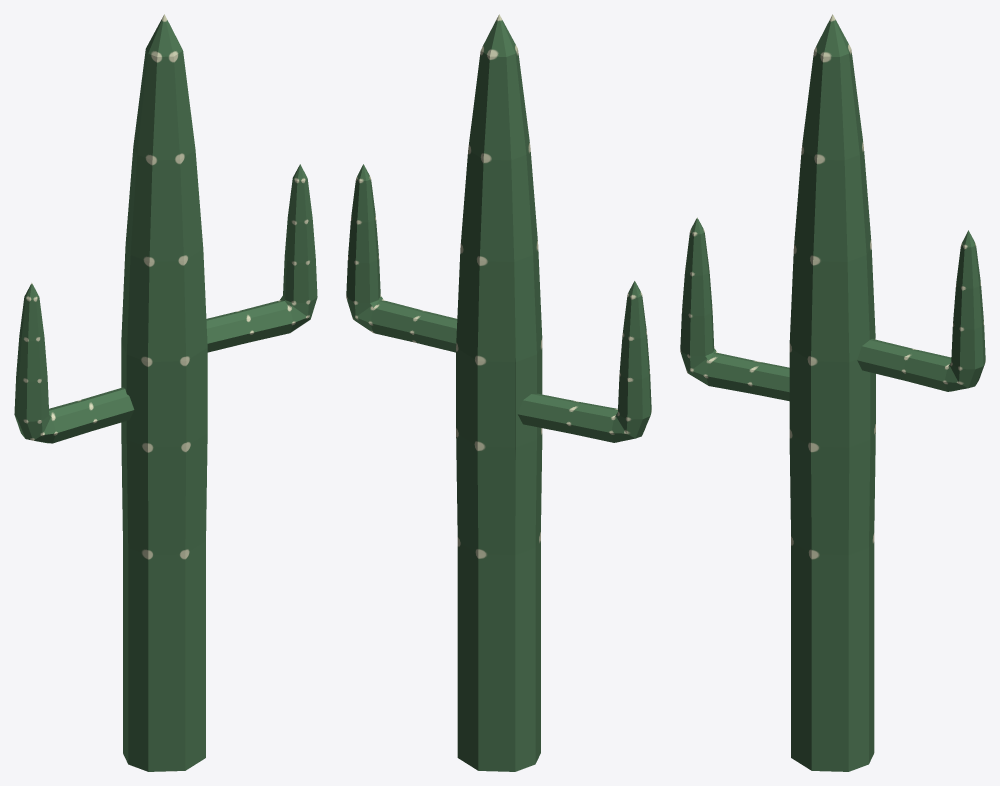
File: Cactus.fbx
3 views of the same model, side by side, from view 1: azimuth 30°, elevation 25°; view 2: azimuth 150°, elevation 25°; view 3: azimuth 330°, elevation 25° (orthographic).
Parts seen in each view (by area): view 1: Cube.002; view 2: Cube.002; view 3: Cube.002.
Part boxes in pixels (x1,y1,x2,y2): Cube.002: (14, 14, 317, 771); Cube.002: (346, 14, 651, 771); Cube.002: (680, 14, 985, 771).
Bounding box in the file's own units: 847 × 2001 × 213.
Materials: 3 (3 with a texture image).
